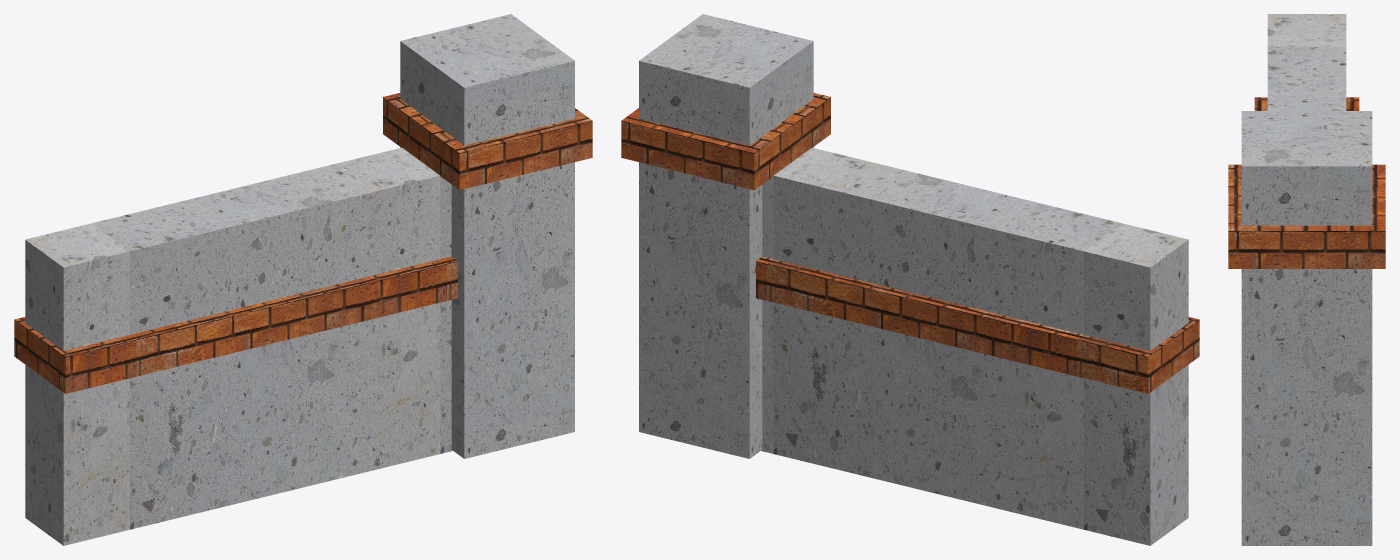
File: Muro.obj
3 views of the same model, side by side, from view 1: azimuth 30°, elevation 25°; view 2: azimuth 150°, elevation 25°; view 3: azimuth 270°, elevation 25° (orthographic). The views are drawn at different scales.
Visible parts, largest first — view 1: Box001, Box003, Box002, Box004; view 2: Box001, Box003, Box002, Box004; view 3: Box003, Box004, Box001, Box002.
Boxes of the visible parts, bbox=[...] form: Box001: bbox=[25, 147, 452, 545]; Box003: bbox=[400, 14, 574, 458]; Box002: bbox=[14, 256, 457, 393]; Box004: bbox=[383, 93, 592, 190]; Box001: bbox=[761, 147, 1188, 545]; Box003: bbox=[639, 14, 813, 458]; Box002: bbox=[756, 256, 1199, 393]; Box004: bbox=[621, 93, 830, 190]; Box003: bbox=[1241, 111, 1372, 545]; Box004: bbox=[1228, 164, 1385, 268]; Box001: bbox=[1267, 14, 1346, 110]; Box002: bbox=[1254, 97, 1359, 110].
Bounding box in the file's own units: 49.68 × 34.41 × 12.85.
Materials: 2 (2 with a texture image).
